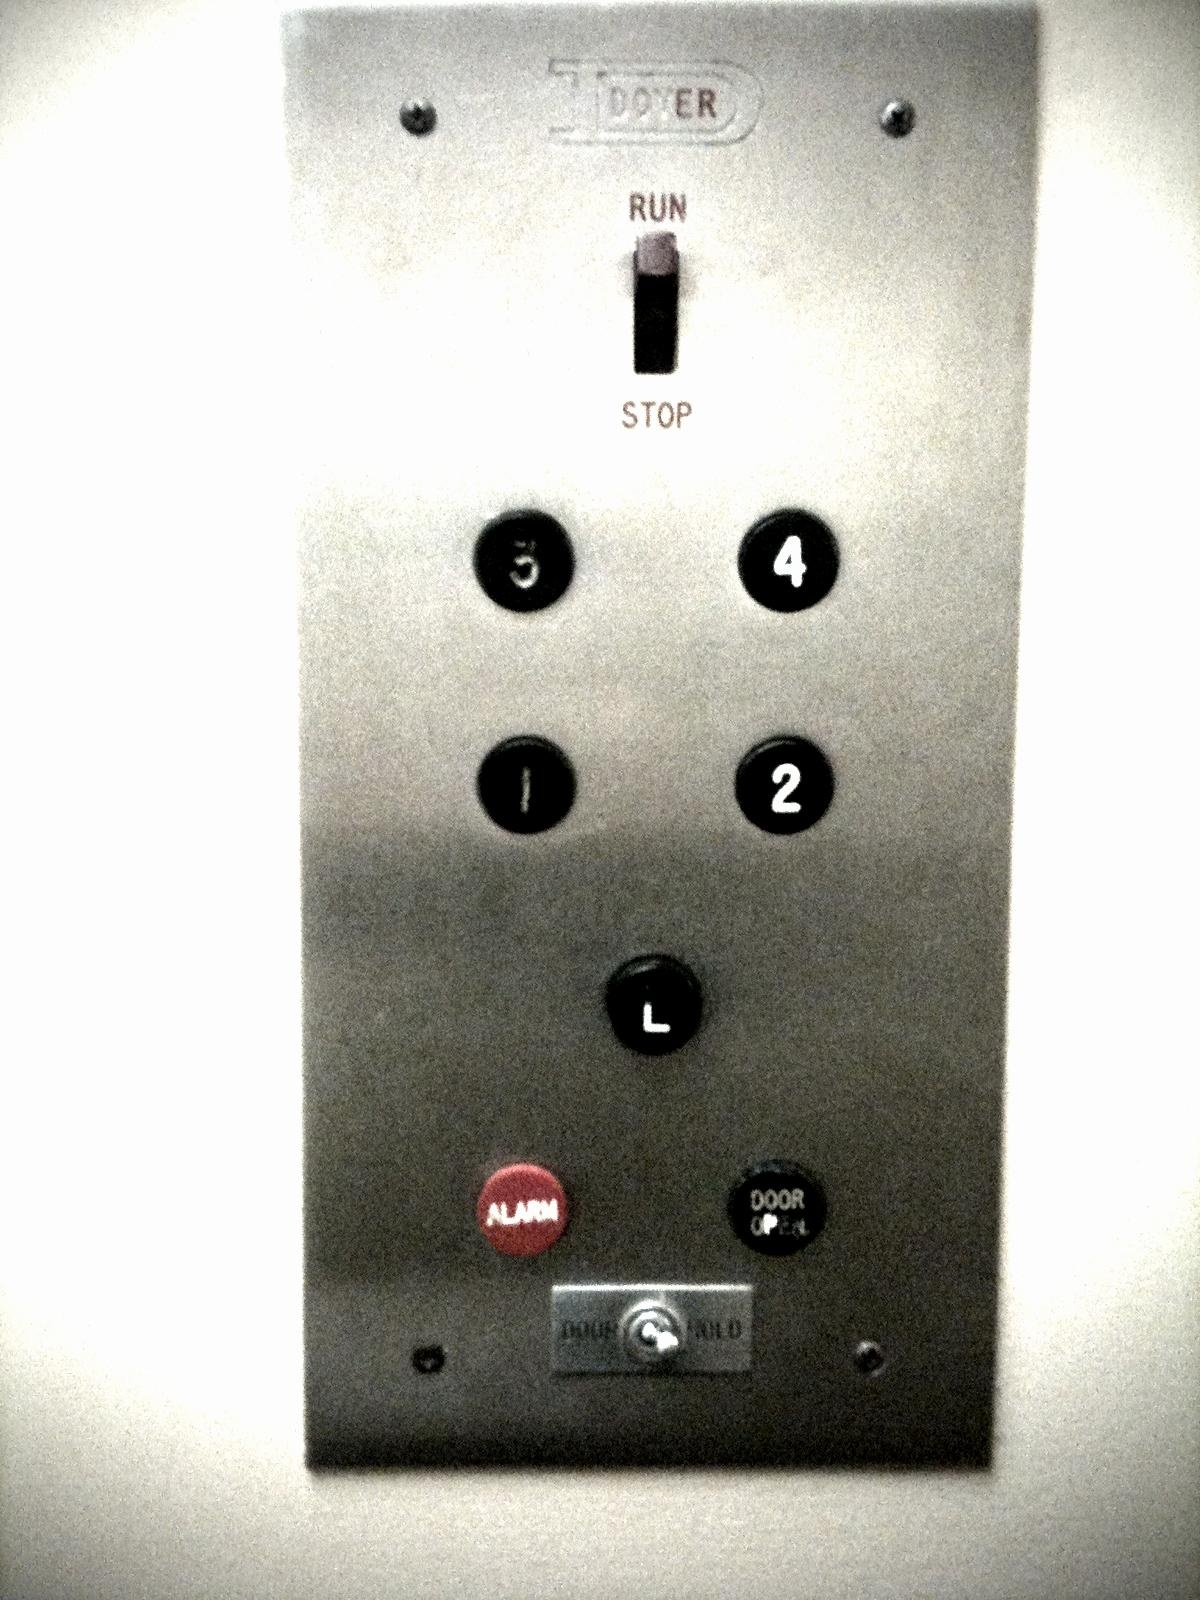1: (463, 718, 590, 850)
2: (726, 727, 841, 842)
3: (458, 494, 586, 627)
4: (725, 493, 853, 625)
L: (589, 937, 717, 1070)
switch: (611, 231, 702, 384), (609, 1293, 697, 1374)
text: (461, 1149, 585, 1270), (717, 1151, 834, 1266)
